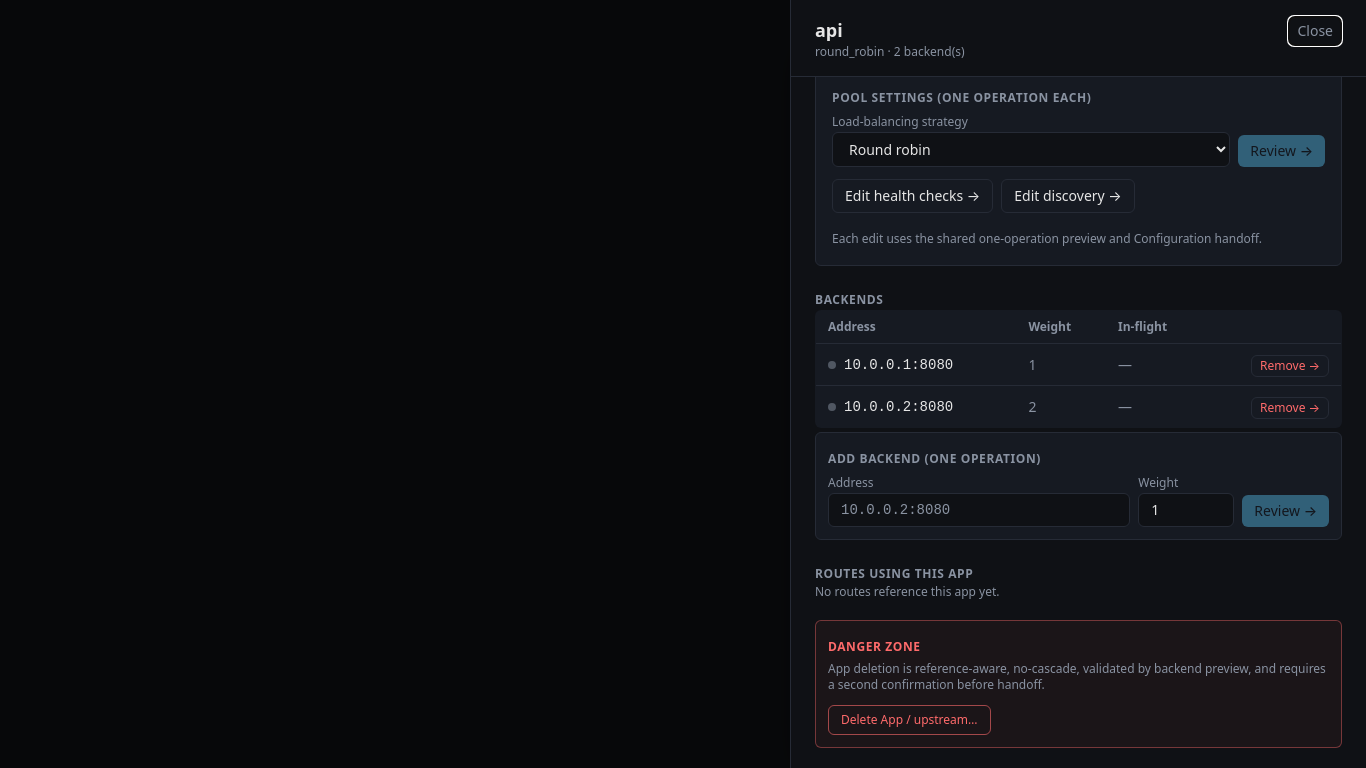
Test: AppDetail reference-aware deletion › surfaces an authoritative reference race with op index and discriminator
(page scrolled)
Click the button "Delete App / upstream…".
click(909, 720)  # box [828,705,991,735]
(page scrolled)
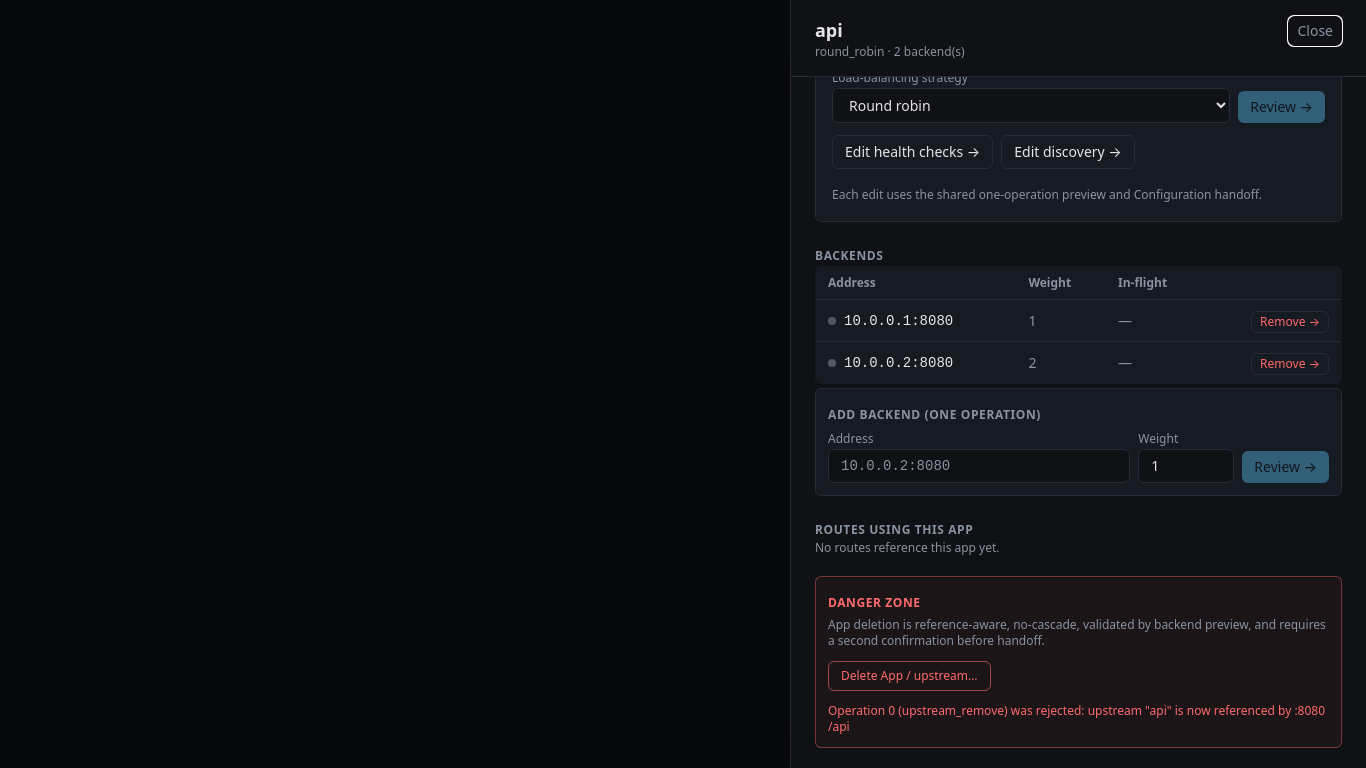
Now the text "Operation 0 (upstream_remove) was rejected: upstream \"api\" is now referenced" is shown, box [828,702,1325,735]
